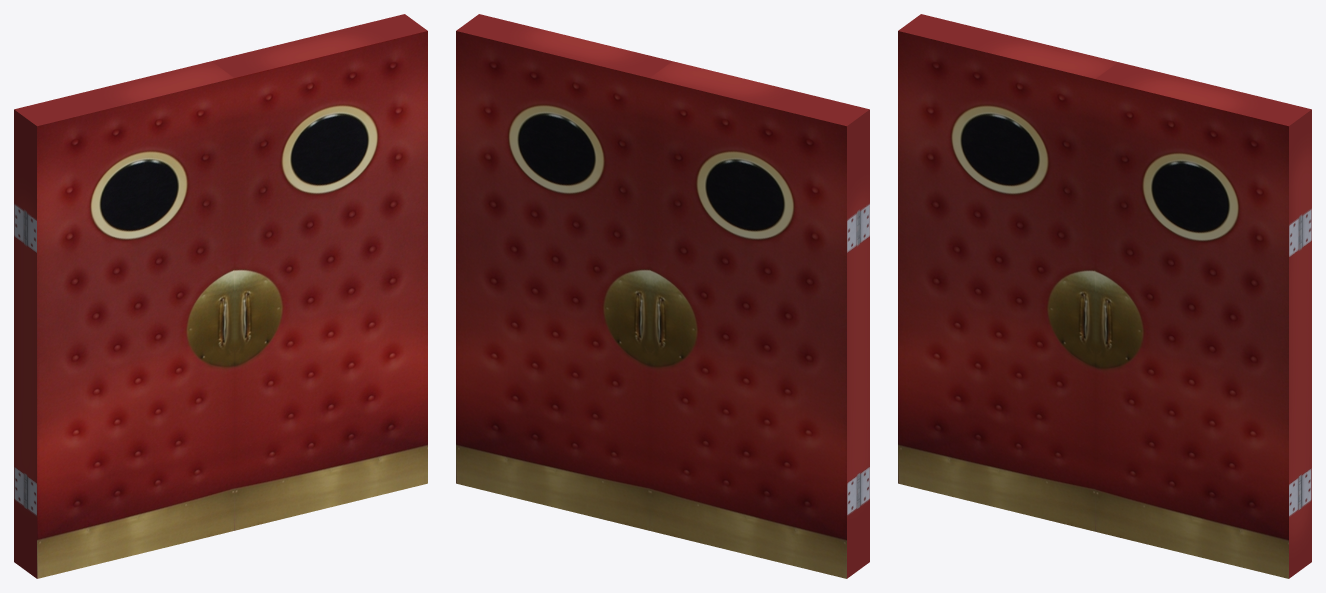
Rendered from Puerta_TH_VC.fbx.
3 renders of one model, left to right at view 1: azimuth 30°, elevation 25°; view 2: azimuth 150°, elevation 25°; view 3: azimuth 330°, elevation 25°, orthographic.
Visible parts, largest first — view 1: Puerta2_TH_VC, Puerta1_TH_VC; view 2: Puerta2_TH_VC, Puerta1_TH_VC; view 3: Puerta1_TH_VC, Puerta2_TH_VC.
Boxes of the visible parts, x1,y1,x2,y2 form: Puerta2_TH_VC: (14,61,234,578); Puerta1_TH_VC: (211,14,427,530); Puerta2_TH_VC: (649,61,869,578); Puerta1_TH_VC: (456,14,672,530); Puerta1_TH_VC: (1095,62,1311,578); Puerta2_TH_VC: (898,14,1117,531).
Bounding box in the file's own units: 407 × 451 × 41.72.
2 materials, 2 textured.
